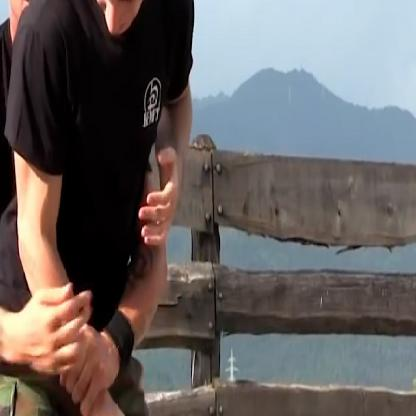knife: (76, 394, 198, 415)
